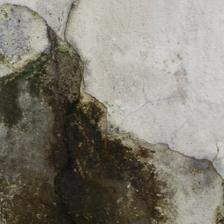Crack: (30, 4, 191, 173)
